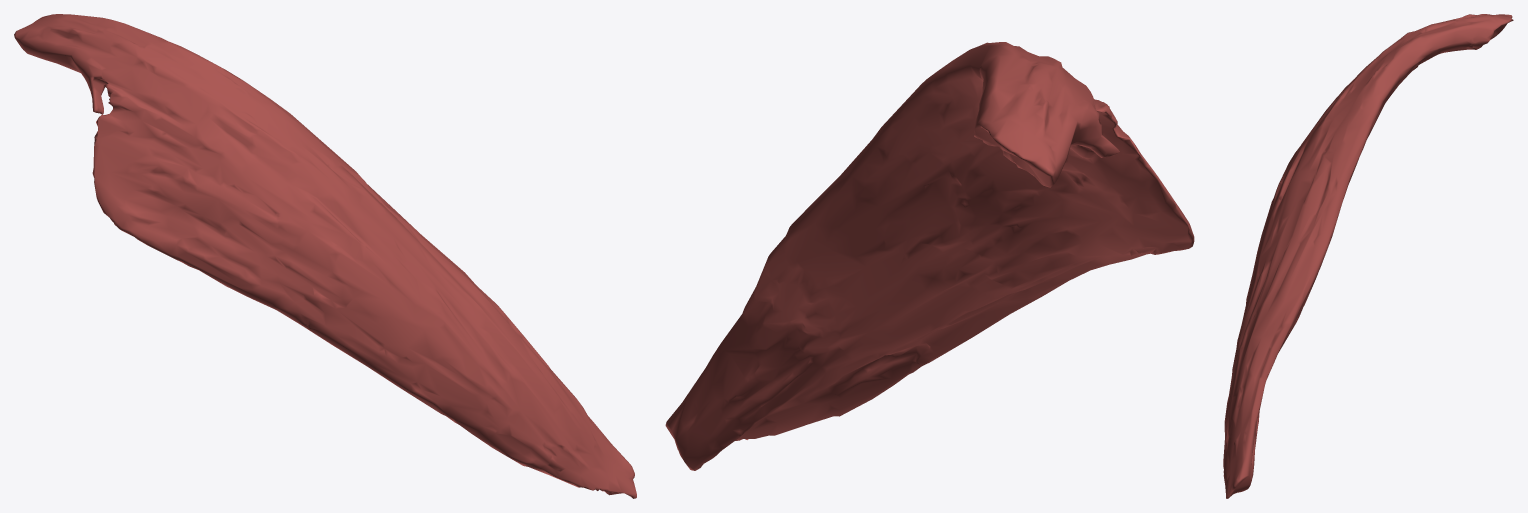
Rendered from FMA37387.glb.
3 views of the same model, side by side, from view 1: azimuth 30°, elevation 25°; view 2: azimuth 150°, elevation 25°; view 3: azimuth 270°, elevation 25° (orthographic). The views are drawn at different scales.
Parts seen in each view (by area): view 1: FMA37387; view 2: FMA37387; view 3: FMA37387.
Part boxes in pixels (left/top/right/bottom): FMA37387: left=14, top=14, right=636, bottom=498; FMA37387: left=665, top=42, right=1194, bottom=470; FMA37387: left=1223, top=14, right=1513, bottom=498.
Size of the model in its own units: 0.0393 by 0.0384 by 0.0298.
